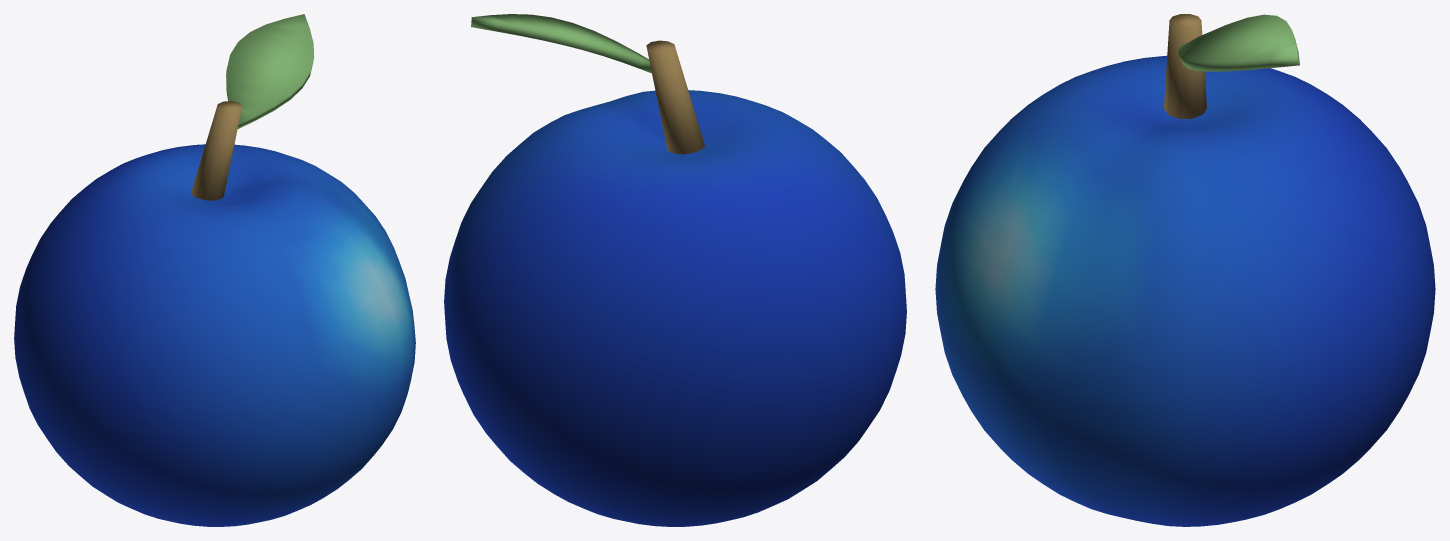
Rendered from Plasma_Plum.glb.
3 views of the same model, side by side, from view 1: azimuth 30°, elevation 25°; view 2: azimuth 150°, elevation 25°; view 3: azimuth 270°, elevation 25° (orthographic). The views are drawn at different scales.
Visible parts, largest first — view 1: Plasma_Plum; view 2: Plasma_Plum; view 3: Plasma_Plum.
Part boxes in pixels (x1,y1,x2,y2): Plasma_Plum: (14,14,415,526); Plasma_Plum: (444,14,906,526); Plasma_Plum: (935,14,1435,526).
Size of the model in its own units: 1 by 1.16 by 1.
